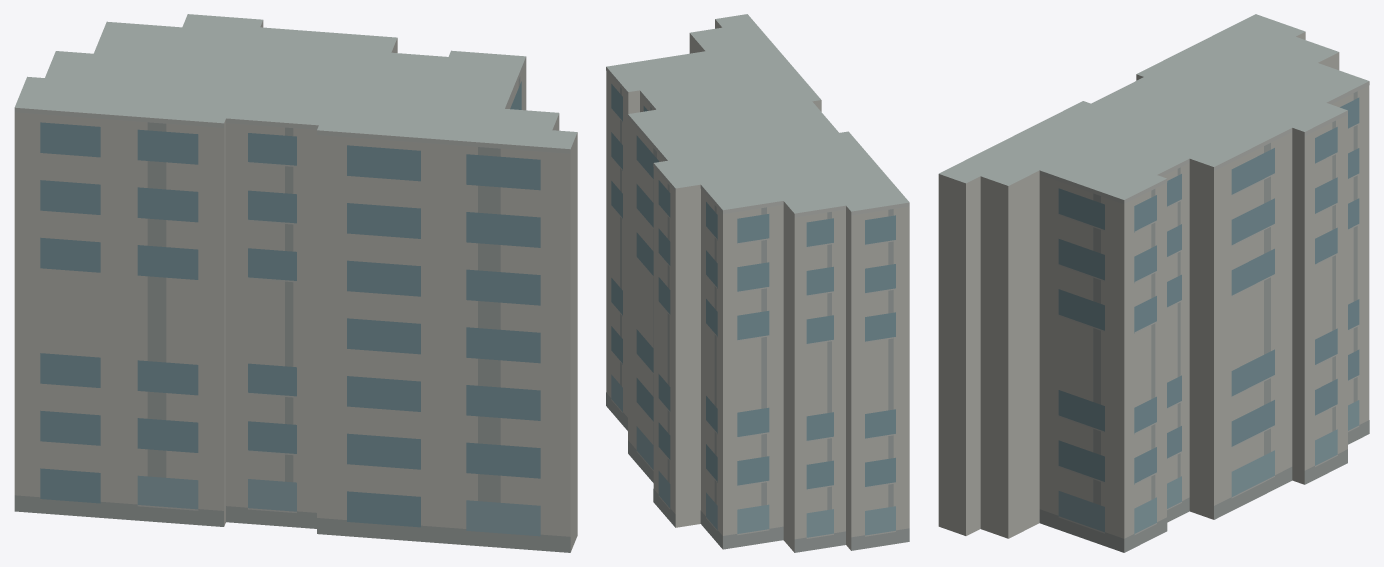
Rendered from survey-upis-32755051.glb.
3 views of the same model, side by side, from view 1: azimuth 30°, elevation 25°; view 2: azimuth 150°, elevation 25°; view 3: azimuth 270°, elevation 25° (orthographic). The views are drawn at different scales.
Visible parts, largest first — view 1: survey-upis-32755051.tmp; view 2: survey-upis-32755051.tmp; view 3: survey-upis-32755051.tmp.
Boxes of the visible parts, x1,y1,x2,y2 form: survey-upis-32755051.tmp: (14,14,577,552); survey-upis-32755051.tmp: (606,14,909,552); survey-upis-32755051.tmp: (938,14,1369,552).
Size of the model in its own units: 23.65 by 20.9 by 23.15.
